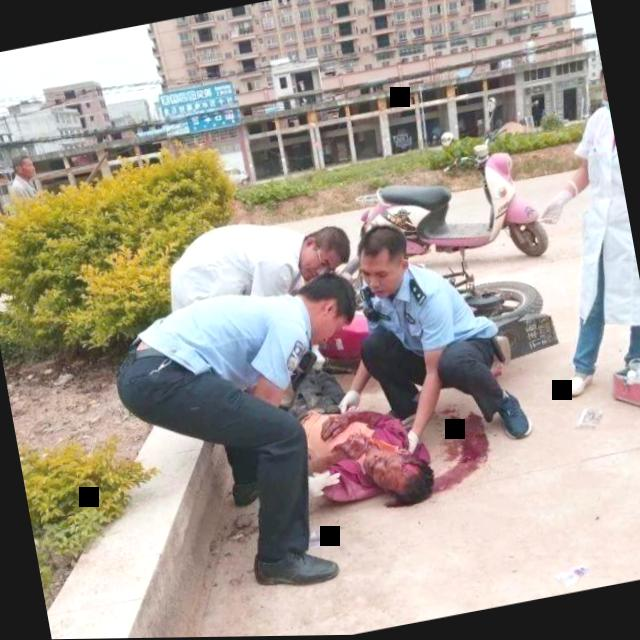Fall-Detected: (237, 363, 458, 541)
